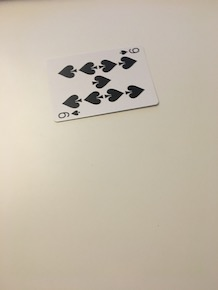NineOfSpades: (41, 40, 163, 124)
